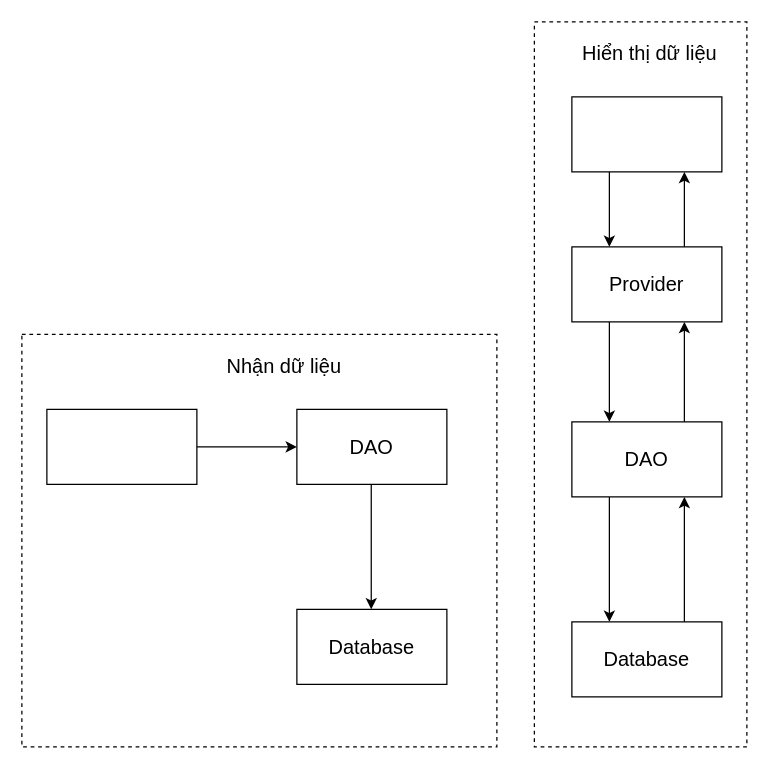
The diagram is 769 pixels wide and 769 high, and some of its shapes have lost their labels. The centre of each missing label's shape, as x and y in pixels:
"Socket" belongs at [121,446].
"UI" belongs at [646,134].
